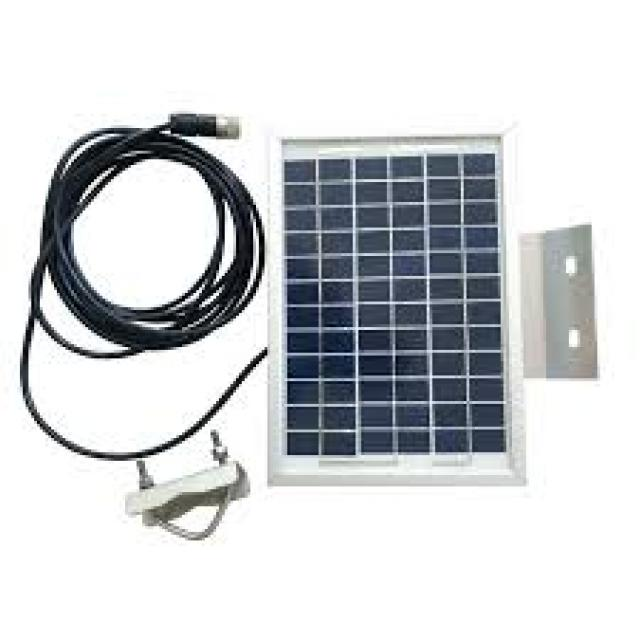no faulty: (292, 152, 508, 471)
